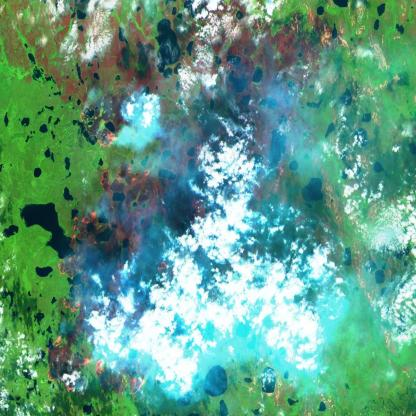fire: (40, 90, 258, 416)
